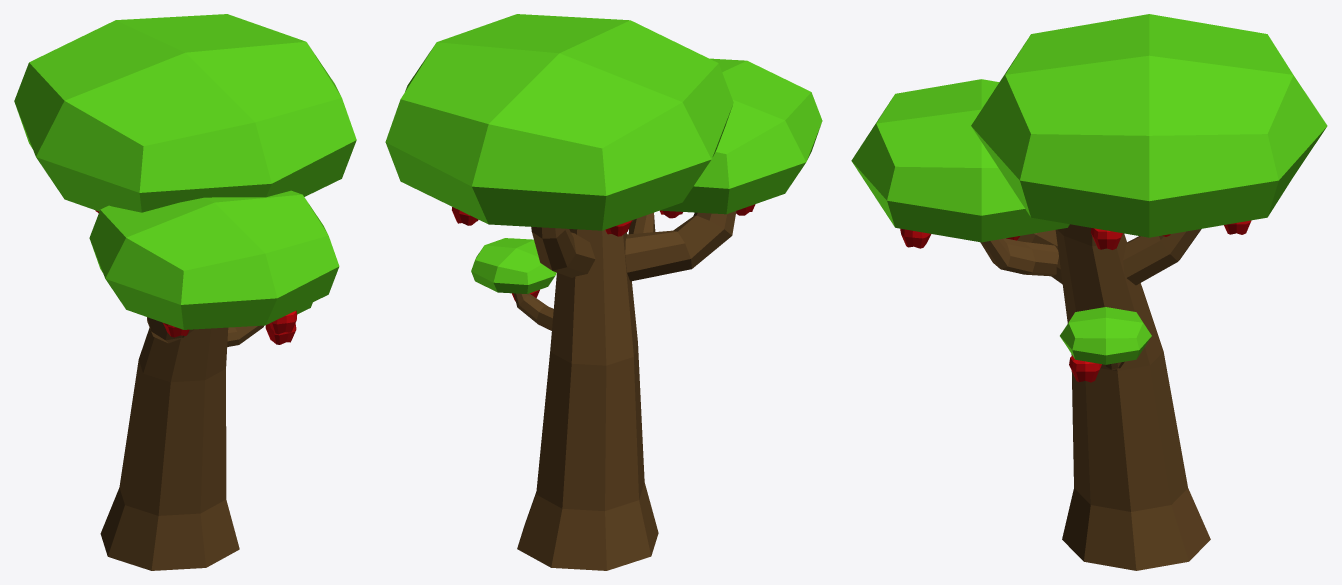
Rendered from appel boom 2.fbx.
3 renders of one model, left to right at view 1: azimuth 30°, elevation 25°; view 2: azimuth 150°, elevation 25°; view 3: azimuth 270°, elevation 25°, orthographic. The views are drawn at different scales.
Visible parts, largest first — view 1: Apple boom 2; view 2: Apple boom 2; view 3: Apple boom 2.
Boxes of the visible parts, x1,y1,x2,y2 form: Apple boom 2: (14,14,356,570); Apple boom 2: (385,14,822,570); Apple boom 2: (851,14,1327,570).
Size of the model in its own units: 2.98 by 4.38 by 3.82.
